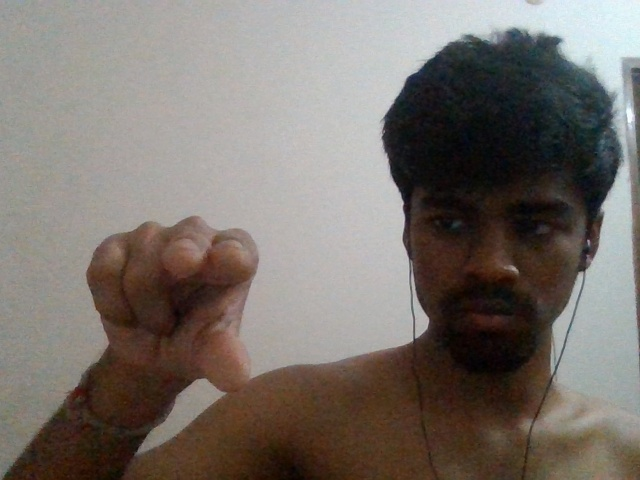No: (78, 208, 268, 411)
